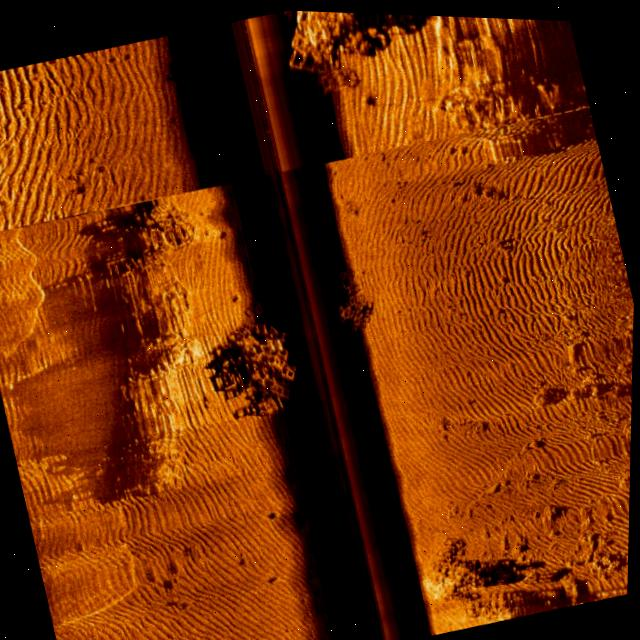artificial reef: (210, 290, 312, 423), (265, 8, 407, 88), (312, 251, 390, 346)
